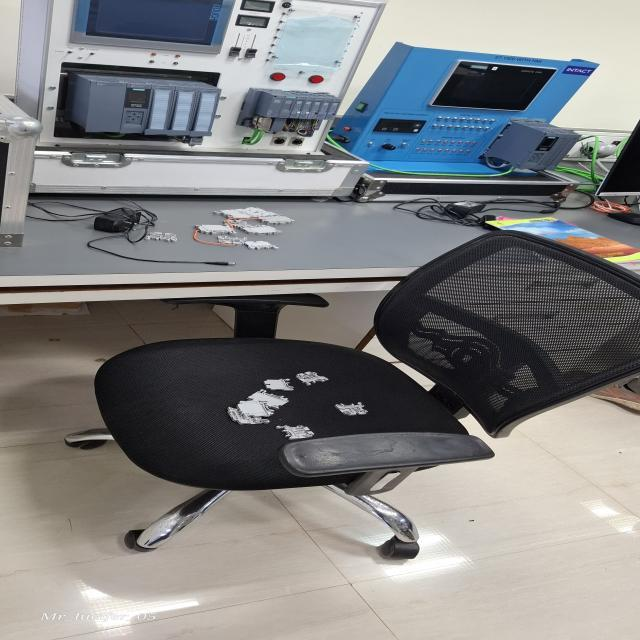Inverted: (261, 377, 297, 391)
Pass: (294, 370, 334, 386), (145, 232, 180, 246)
Reject: (271, 422, 317, 440), (332, 401, 369, 416)
